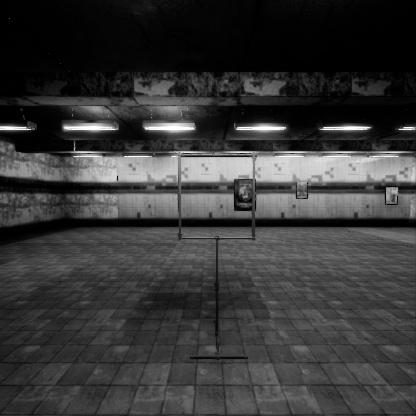gate: (178, 175, 263, 263)
